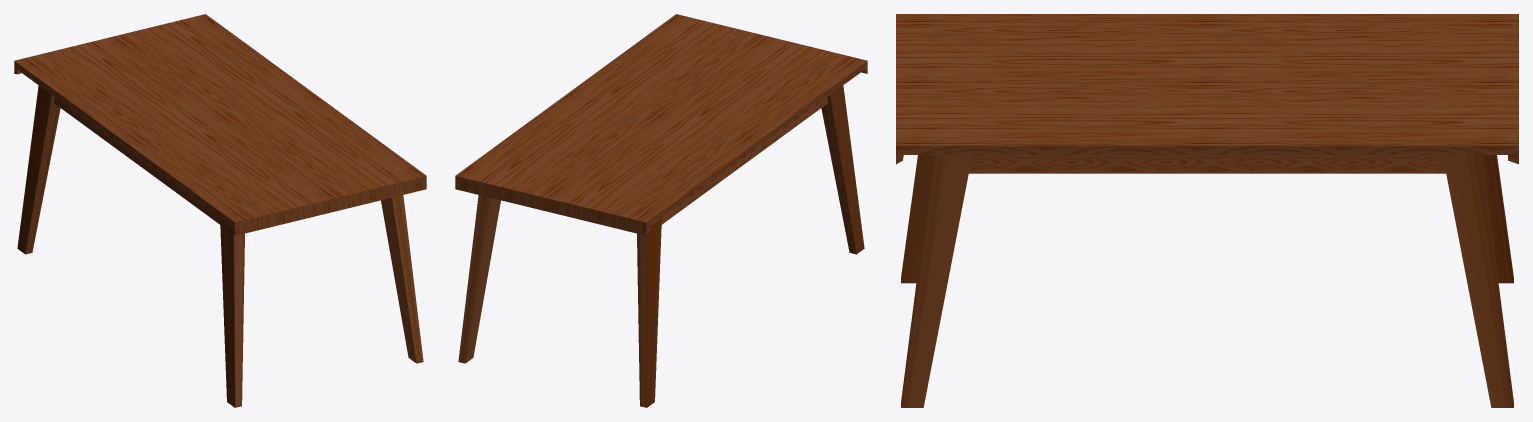
Rendered from Mesa.fbx.
3 renders of one model, left to right at view 1: azimuth 30°, elevation 25°; view 2: azimuth 150°, elevation 25°; view 3: azimuth 270°, elevation 25°, orthographic. The views are drawn at different scales.
Visible parts, largest first — view 1: Cube.017; view 2: Cube.017; view 3: Cube.017.
Part boxes in pixels (x1,y1,x2,y2): Cube.017: (14, 14, 426, 407); Cube.017: (455, 14, 867, 407); Cube.017: (896, 14, 1518, 407).
Bounding box in the file's own units: 300 × 280 × 600.
